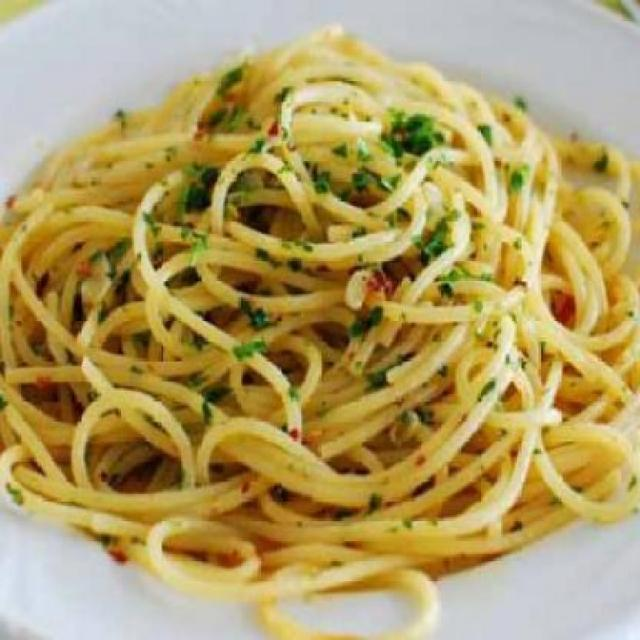Oil pasta: (20, 34, 622, 592)
